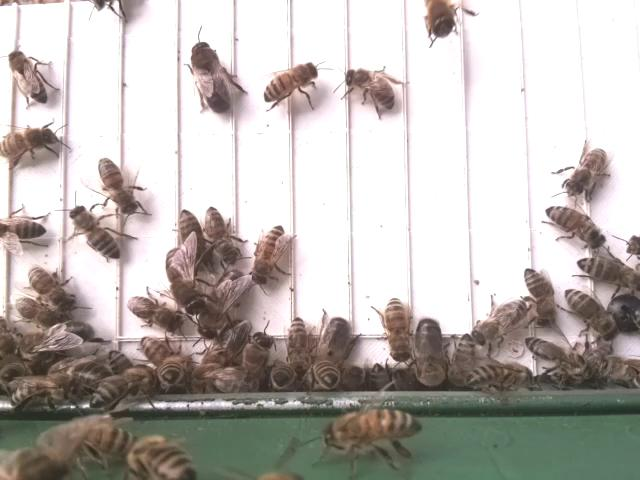Drone: (188, 38, 233, 117), (412, 309, 446, 391)
Worker: (70, 202, 122, 262), (96, 154, 144, 215), (469, 299, 529, 347), (6, 47, 53, 108), (342, 65, 400, 113), (562, 285, 612, 340), (26, 261, 77, 313), (259, 62, 319, 105), (543, 203, 603, 246), (562, 144, 607, 200), (524, 261, 559, 331), (203, 201, 241, 265), (250, 222, 285, 289), (0, 123, 65, 158), (125, 294, 180, 334), (574, 254, 639, 286), (382, 294, 412, 359), (0, 213, 52, 245)
